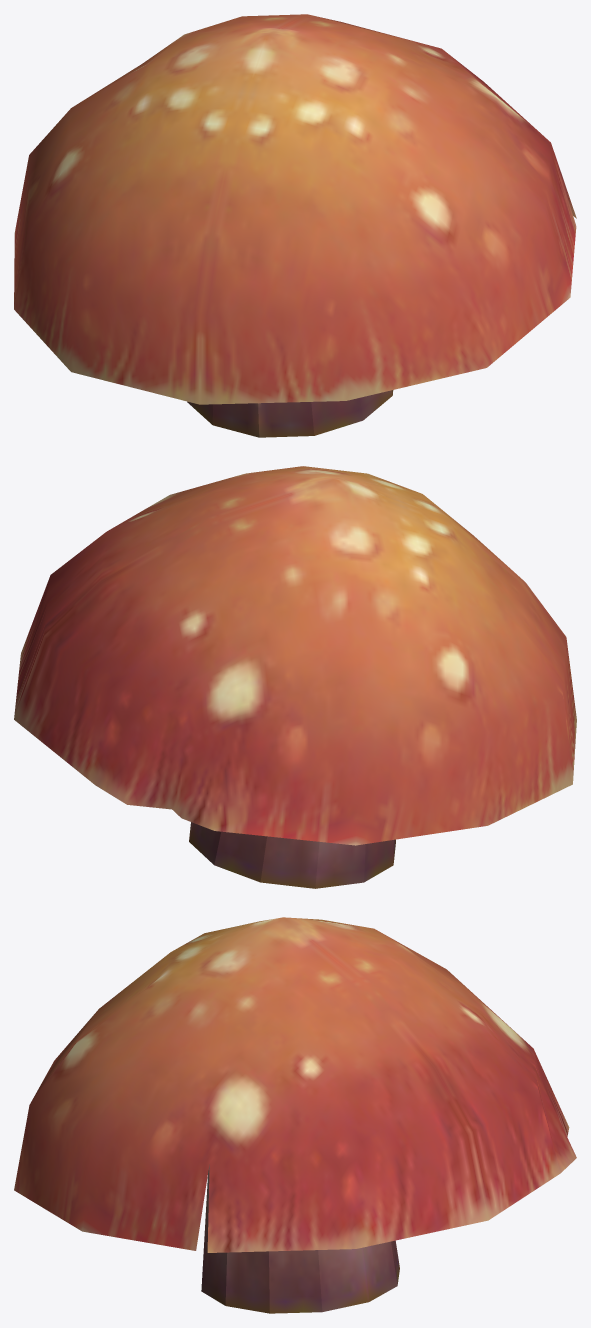
The model's file is gonghui_mogu_03 (7).fbx.
3 views of the same model, one above another, from view 1: azimuth 30°, elevation 25°; view 2: azimuth 150°, elevation 25°; view 3: azimuth 270°, elevation 25° (orthographic). The views are drawn at different scales.
Visible parts, largest first — view 1: gonghui_mogu_03 (7); view 2: gonghui_mogu_03 (7); view 3: gonghui_mogu_03 (7).
Boxes of the visible parts, left/top/right/bottom form: gonghui_mogu_03 (7): left=14, top=14, right=576, bottom=437; gonghui_mogu_03 (7): left=14, top=466, right=576, bottom=888; gonghui_mogu_03 (7): left=14, top=917, right=576, bottom=1313.
Bounding box in the file's own units: 0.2147 × 0.1556 × 0.2227.
